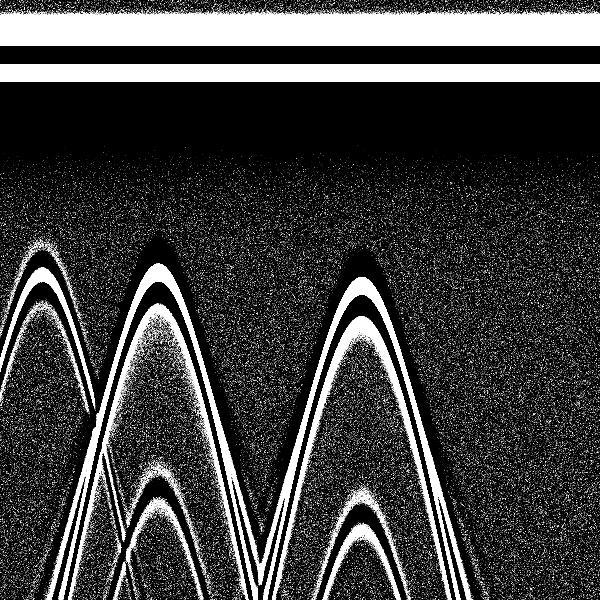pipe: (307, 6, 417, 360), (105, 3, 208, 344), (1, 7, 89, 351)
